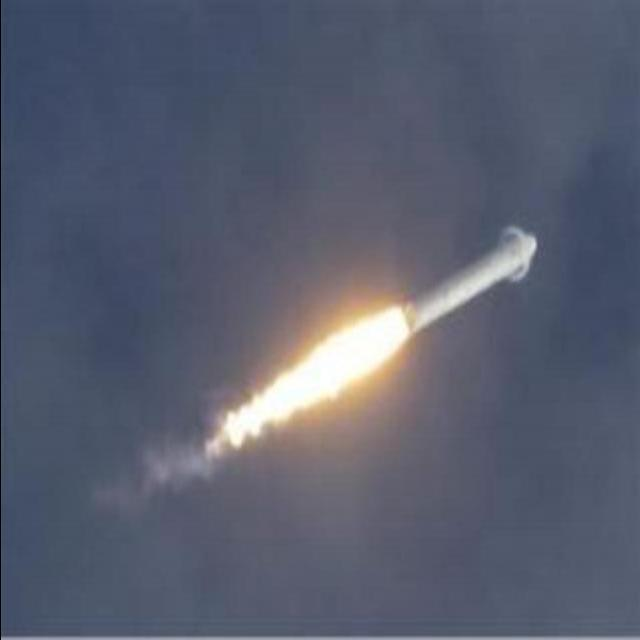missile: (382, 222, 540, 356)
